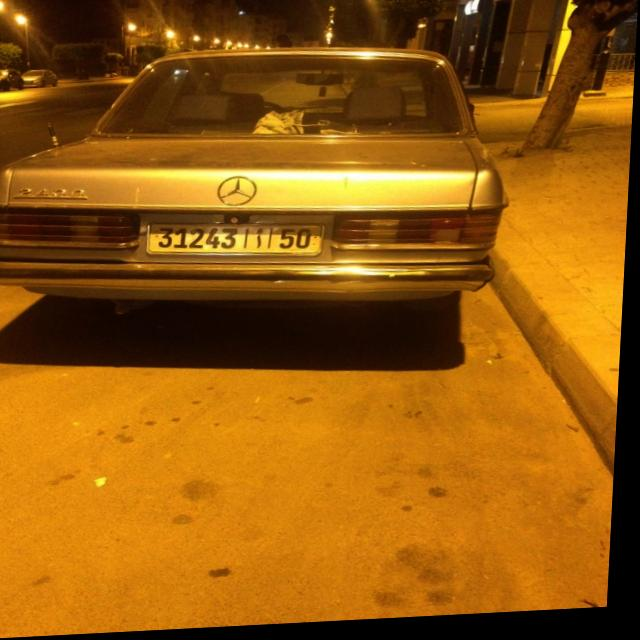License-Plate: (151, 225, 327, 257)
